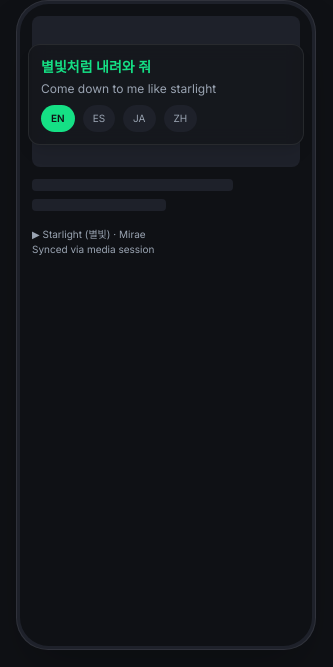
HeroDemo › stays on line 0 under prefers-reduced-motion, with chips still functional (spec §3)
This screenshot has width=333, height=667.
Expected: the text "별빛처럼 내려와 줘" is shown, [41,58,151,75]
fireEvent (not user-event) to avoid fake-timer interplay
Click the button "ES": (99, 118) [83,105,115,132]
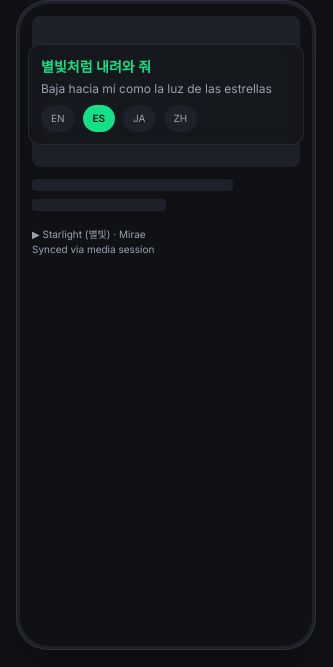
Now the text "Baja hacia mí como la luz de las estrellas" is shown, box [41,81,291,97]
